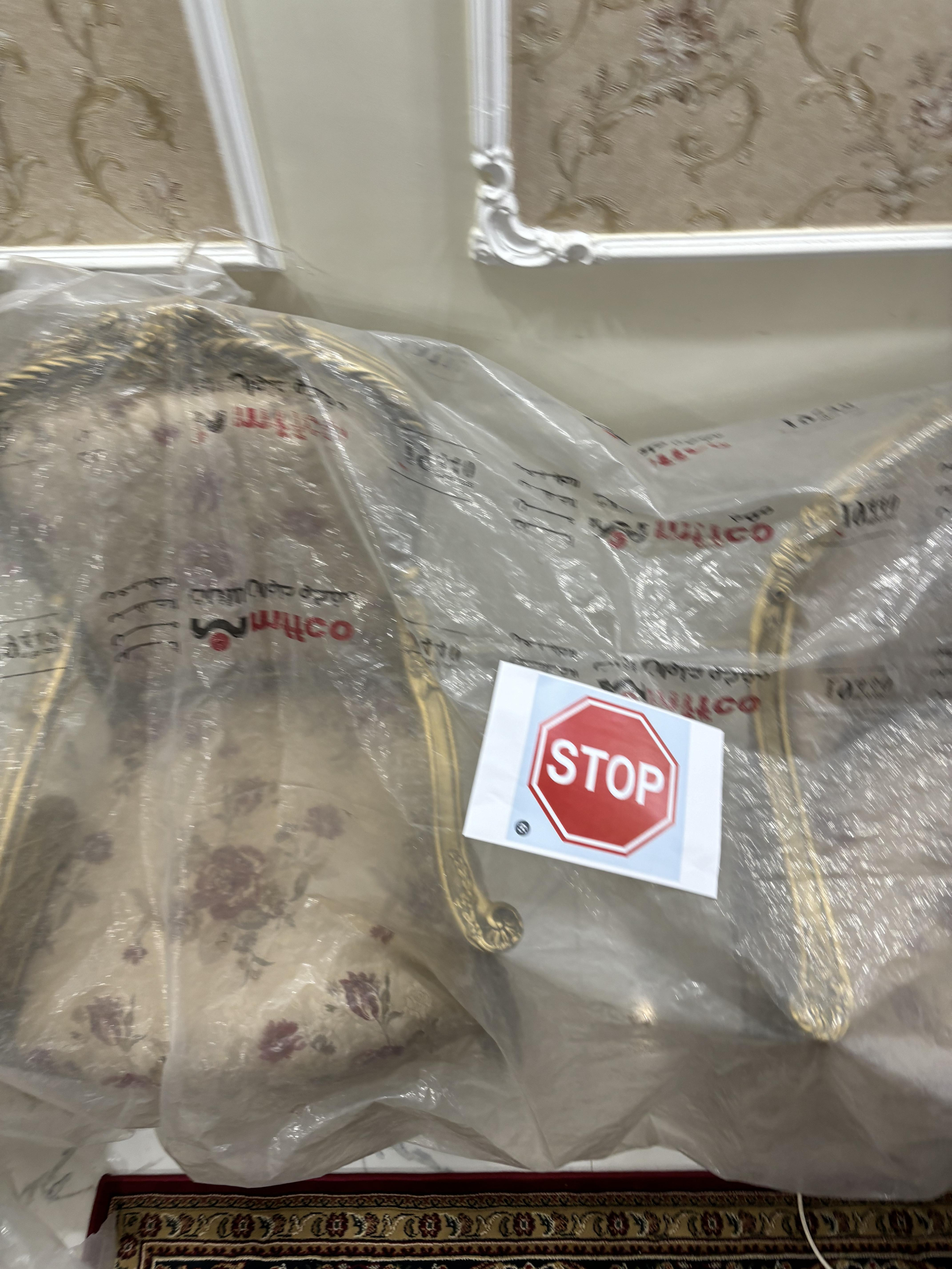Stop: (527, 690, 692, 857)
